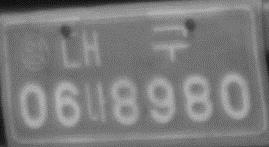0: (219, 72, 253, 121), (20, 83, 48, 128)
6: (52, 79, 81, 128)
8: (182, 73, 215, 123), (110, 78, 139, 127)
9: (145, 76, 176, 124)
나: (83, 80, 109, 128)
대구_D: (60, 23, 192, 69)
영: (17, 31, 52, 74)
